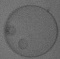small: (7, 25, 16, 36), (18, 39, 28, 48)
